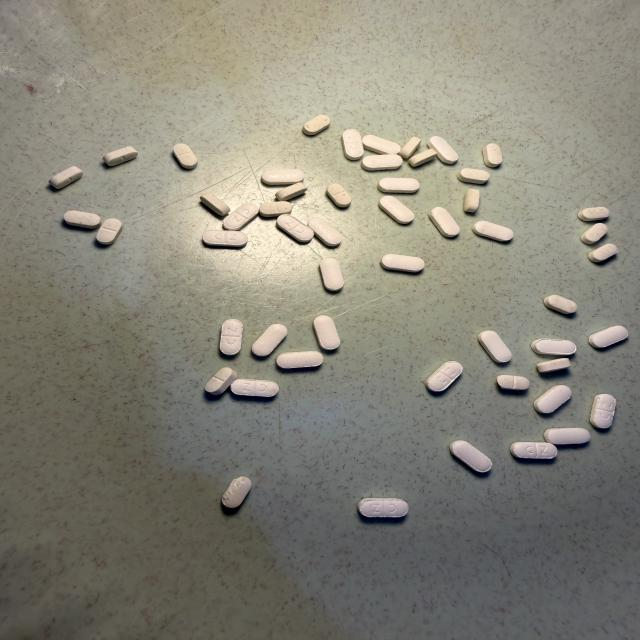pill: (450, 441, 492, 472), (425, 361, 462, 392), (252, 324, 287, 356), (534, 385, 571, 413), (478, 331, 511, 362), (277, 214, 313, 242), (308, 217, 342, 246), (379, 196, 414, 224), (223, 203, 259, 230), (429, 207, 460, 237), (358, 499, 408, 517), (222, 477, 251, 508), (205, 367, 237, 395), (314, 316, 340, 350), (589, 326, 628, 348), (590, 394, 615, 428), (231, 379, 278, 397), (277, 351, 323, 369), (472, 221, 513, 241), (320, 258, 344, 291), (49, 166, 83, 189), (511, 442, 557, 459), (428, 137, 458, 163), (381, 254, 424, 272), (220, 320, 242, 355), (203, 230, 248, 247), (531, 339, 576, 356), (544, 428, 590, 444), (363, 135, 400, 154), (103, 146, 138, 166), (200, 193, 230, 216), (261, 169, 304, 185), (342, 129, 364, 160), (96, 219, 122, 245), (544, 295, 577, 314), (378, 178, 419, 193), (361, 155, 402, 170), (64, 211, 100, 228), (398, 136, 422, 160), (173, 144, 197, 168), (326, 184, 351, 207), (581, 223, 608, 244), (408, 149, 438, 167), (303, 115, 330, 135), (276, 183, 307, 200), (588, 244, 617, 262), (537, 358, 571, 373), (458, 168, 489, 184), (259, 202, 292, 217), (497, 375, 529, 390), (483, 144, 502, 167), (578, 207, 609, 221), (464, 188, 479, 212)
